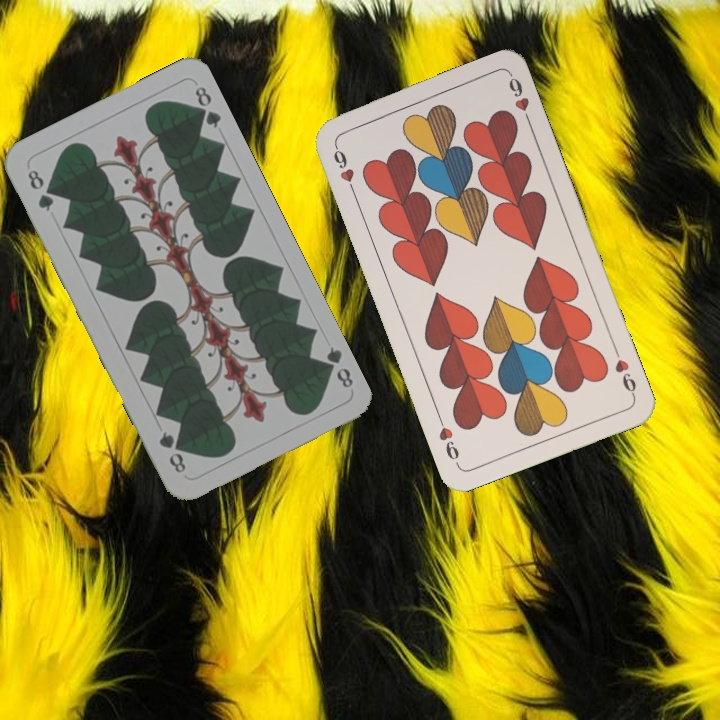G8: (317, 342, 356, 391), (23, 165, 56, 215)
H9: (610, 343, 639, 400), (329, 139, 358, 196)
